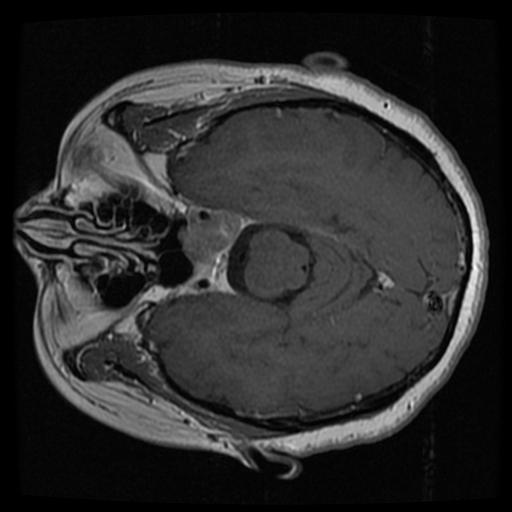pituitary tumour: (183, 213, 240, 286)
